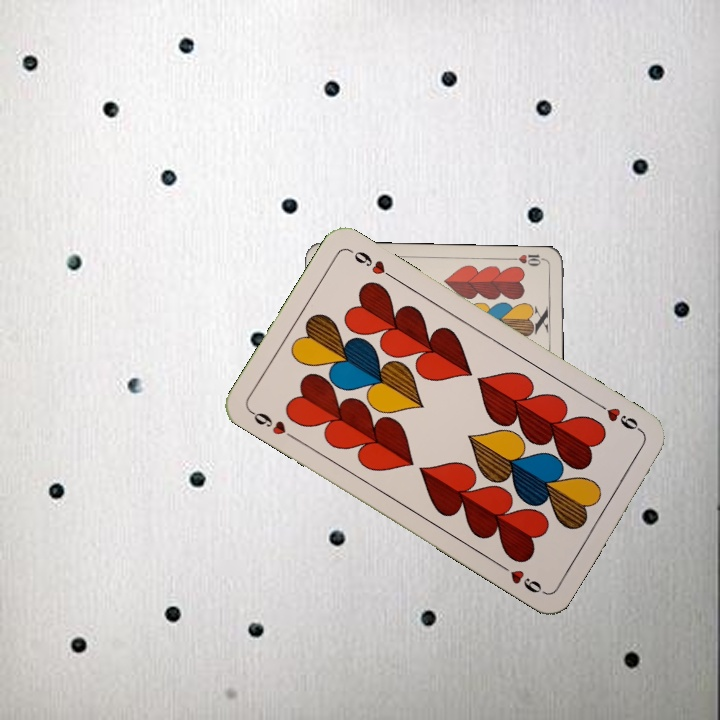H10: (508, 250, 549, 269)
H9: (592, 398, 645, 436), (246, 406, 300, 443)
